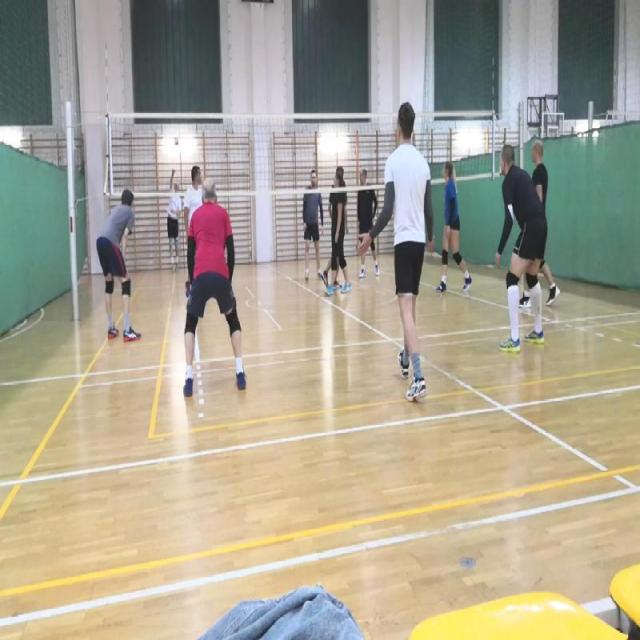volleyball: (174, 137, 178, 144)
